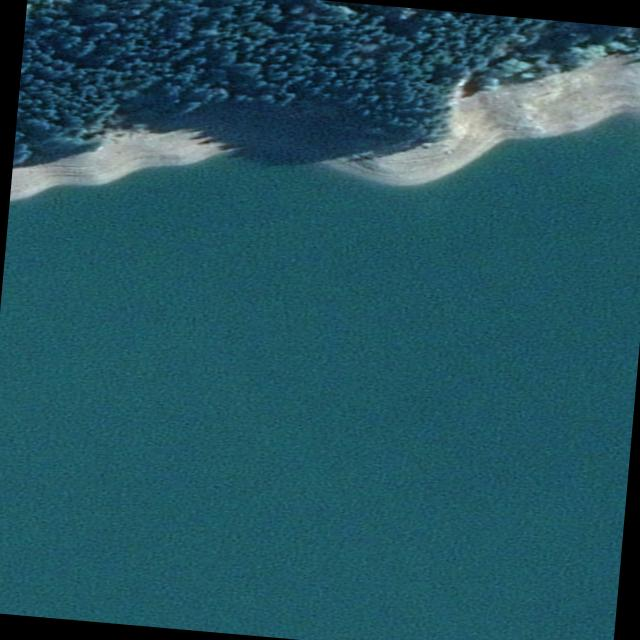bare-soil: (12, 60, 640, 200)
tree: (12, 0, 640, 171)
water: (0, 110, 640, 640)
